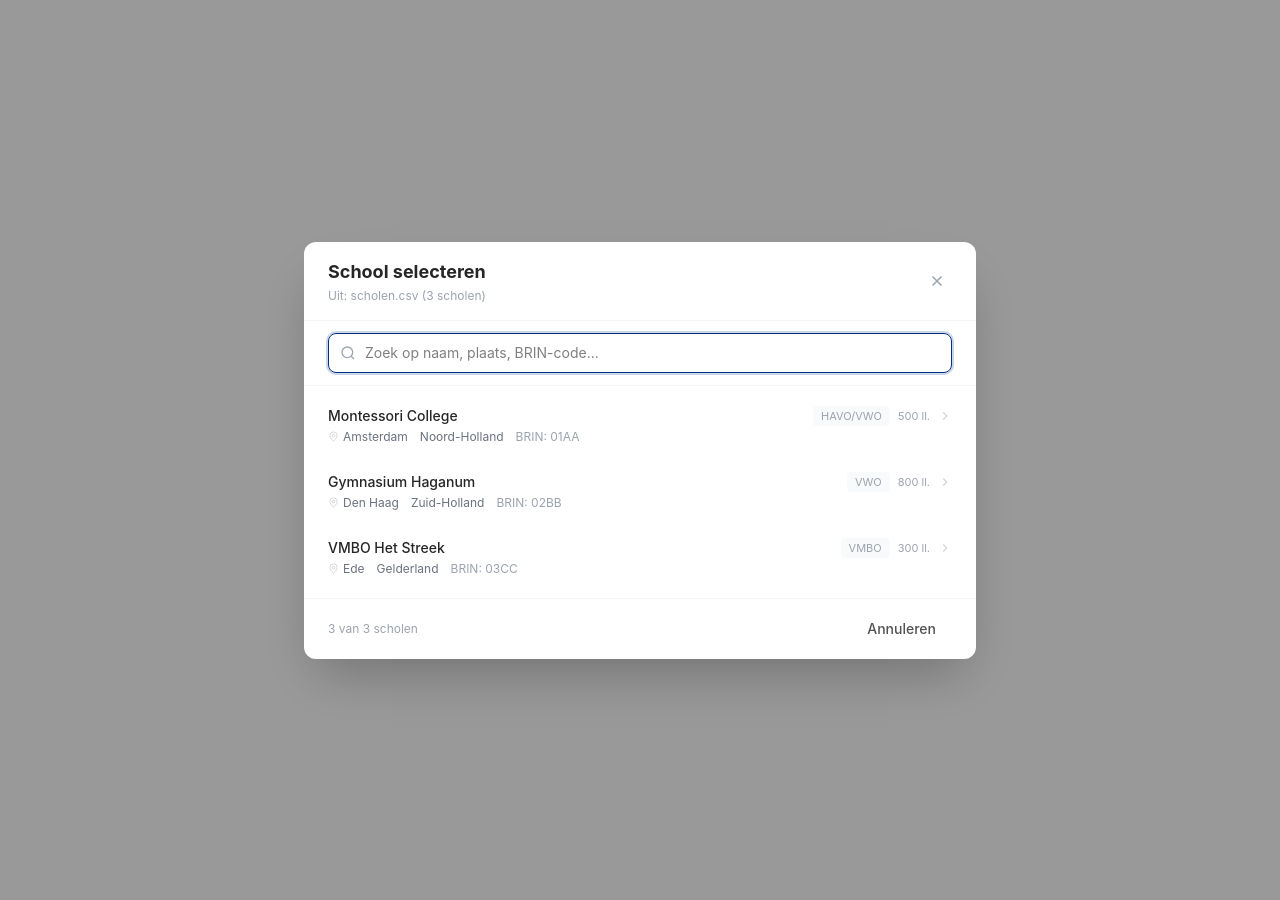
Test: SchoolPickerDialog › search by city filters correctly
The image size is (1280, 900).
Type "Amsterdam" into the field with placeholder "Zoek op naam, plaats, BRIN-code...". click: (640, 352)
box: [328,332,952,372]
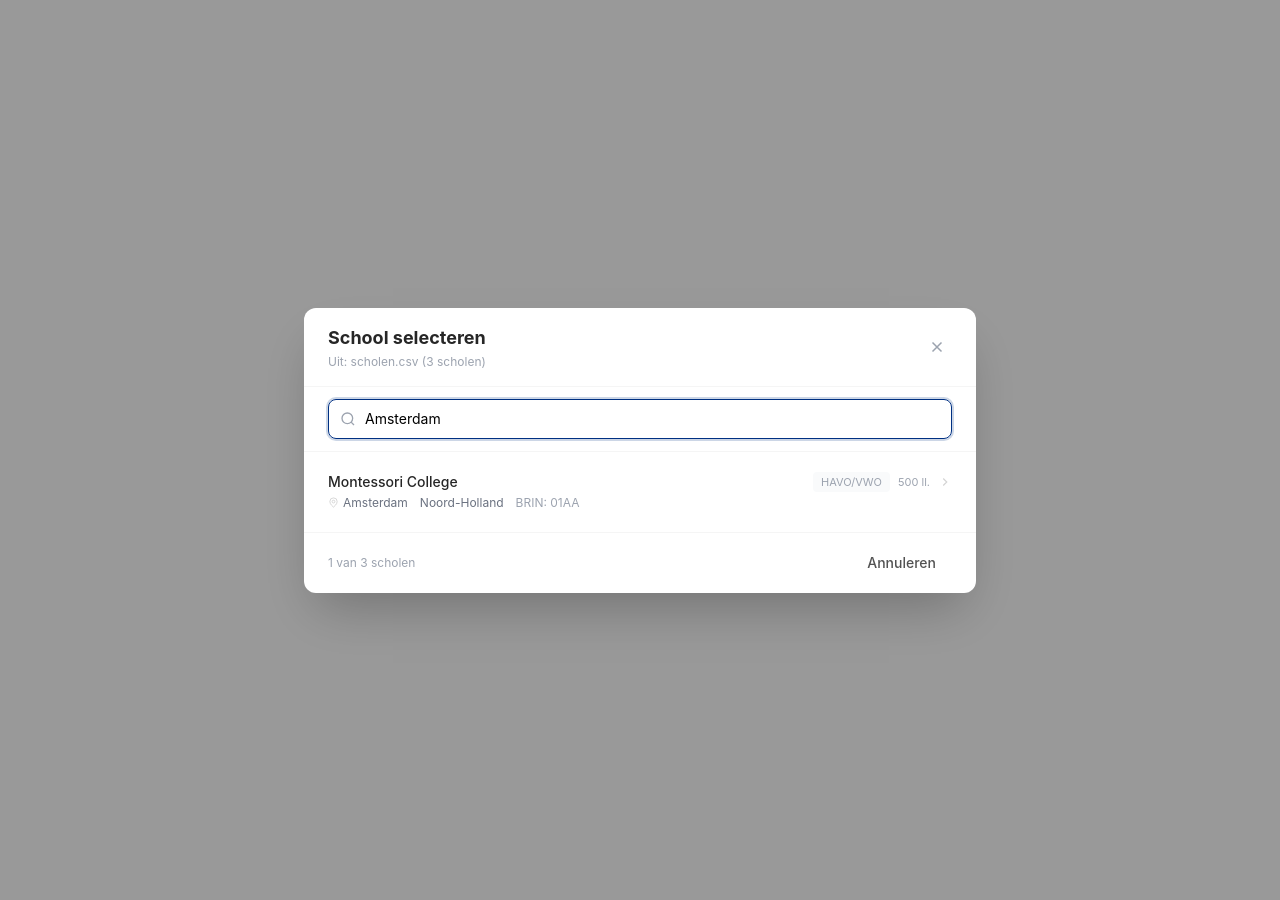
Expected: the text "Montessori College" is shown, [328,472,458,490]
Result: the button "Gymnasium Haganum" is gone
